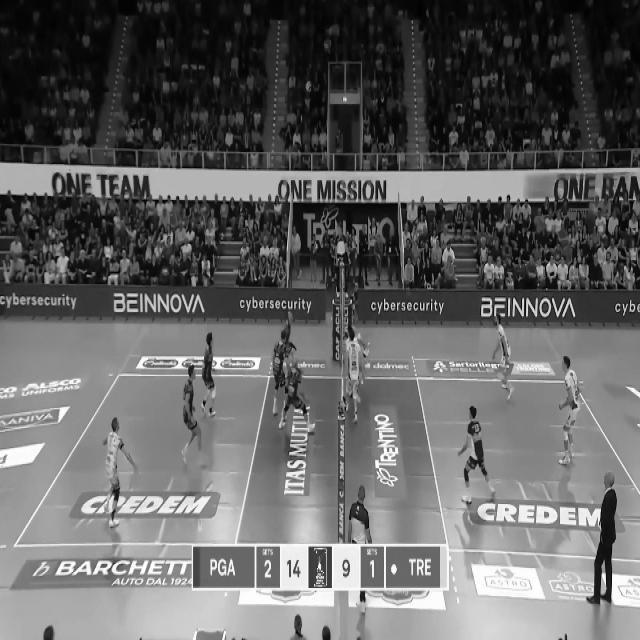volleyball court: (8, 369, 638, 559)
